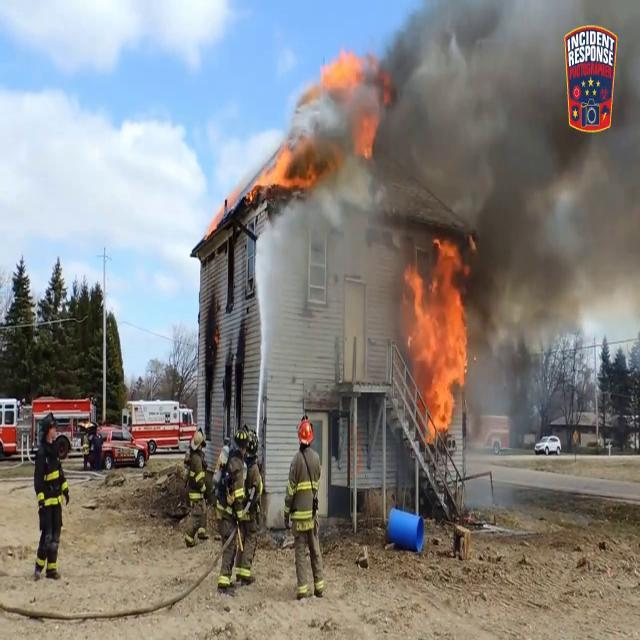Fire: (401, 238, 473, 441), (320, 34, 380, 152), (245, 132, 300, 204)
Smoke: (318, 0, 639, 341)
